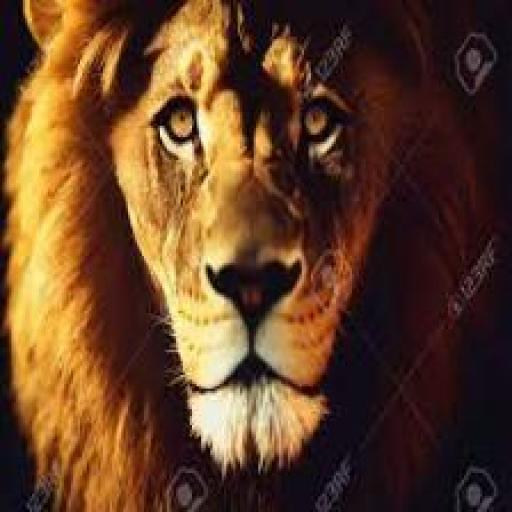lion: (18, 4, 487, 500)
